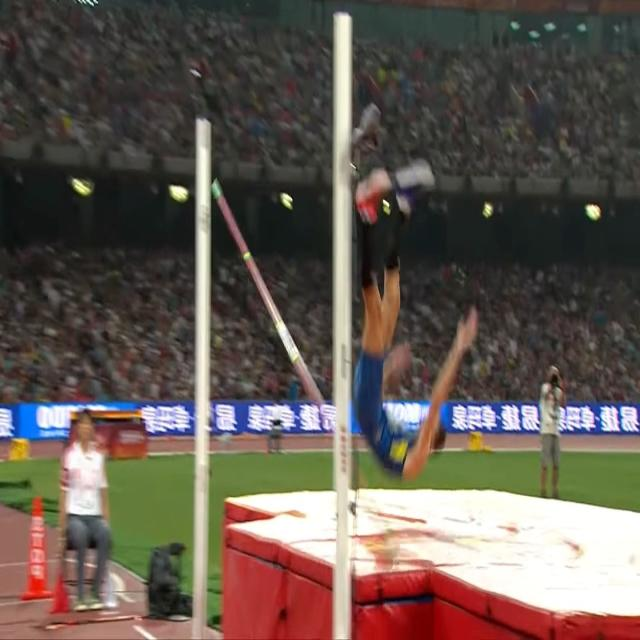land: (357, 168, 478, 475)
